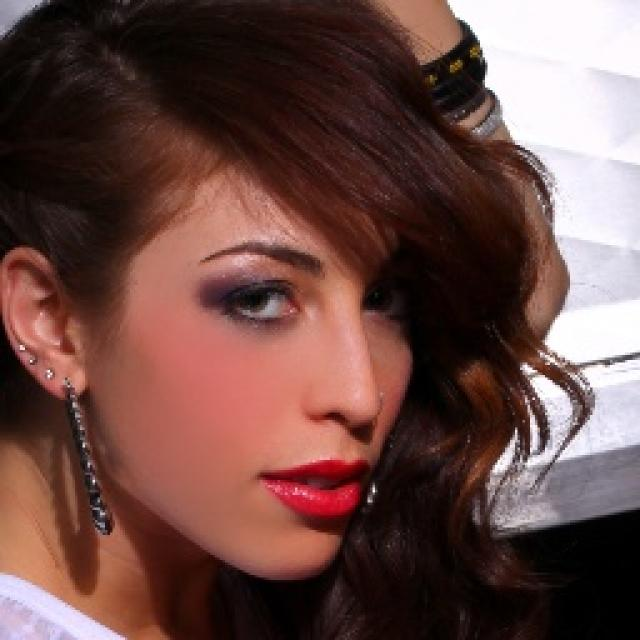earlobe: (0, 245, 86, 401)
